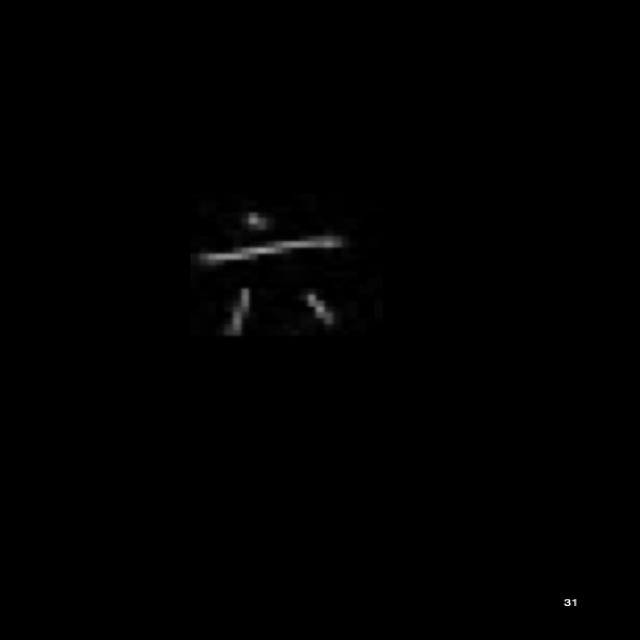6 -six-: (183, 200, 364, 360)
